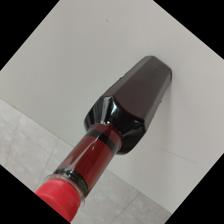Namngu: (33, 55, 172, 224)
